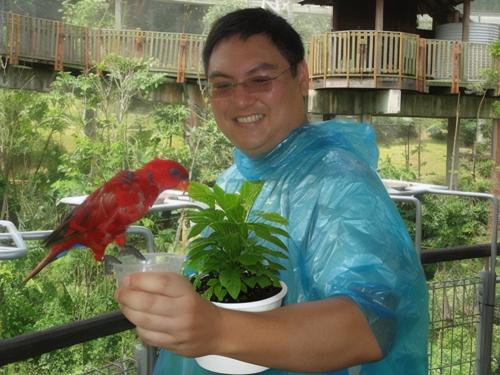bird: (23, 160, 190, 285)
person: (114, 8, 431, 375)
person/hand: (114, 271, 231, 357)
person/head: (203, 7, 310, 148)
pottedplant: (188, 180, 288, 375)
